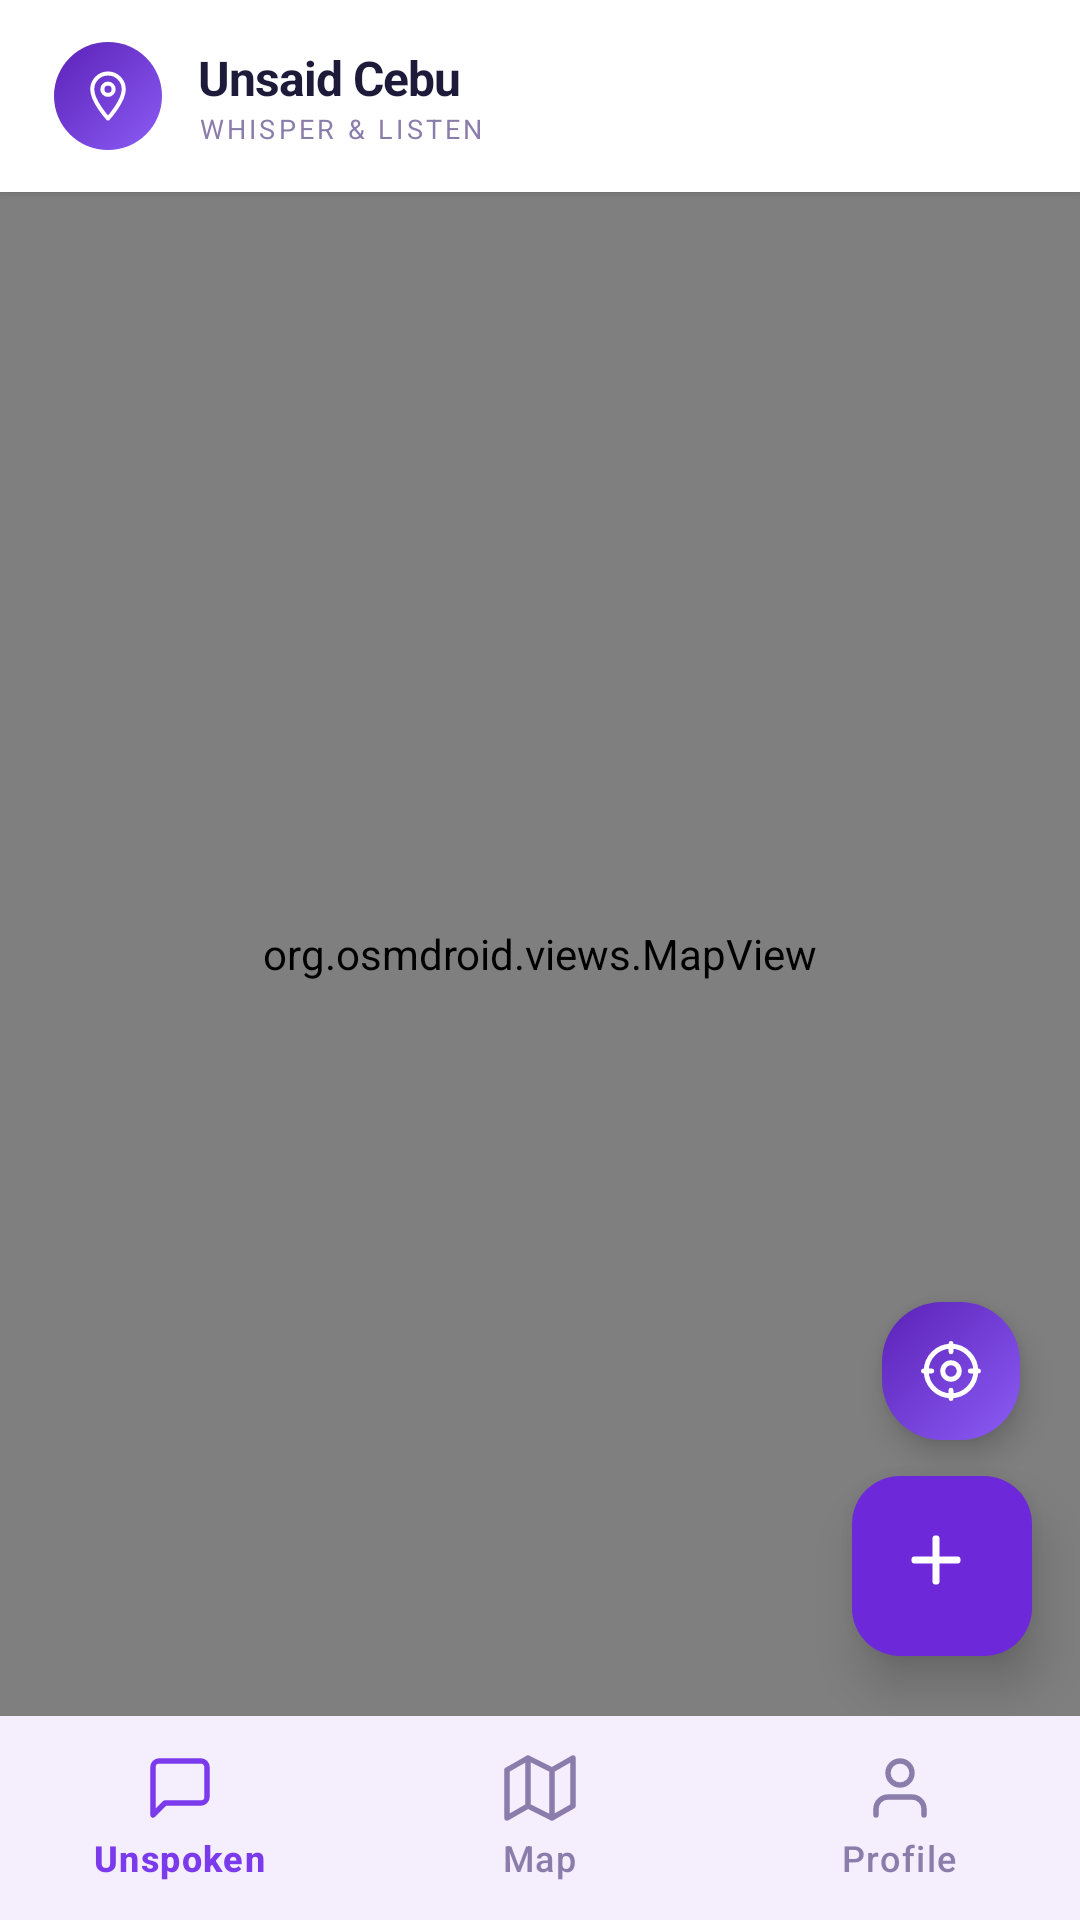

Icon click points for this 1080 x 1920 phone screenshot, format point (x, y):
My location: point (951, 1371)
New whisper: point (942, 1566)
pin: point (108, 96)
